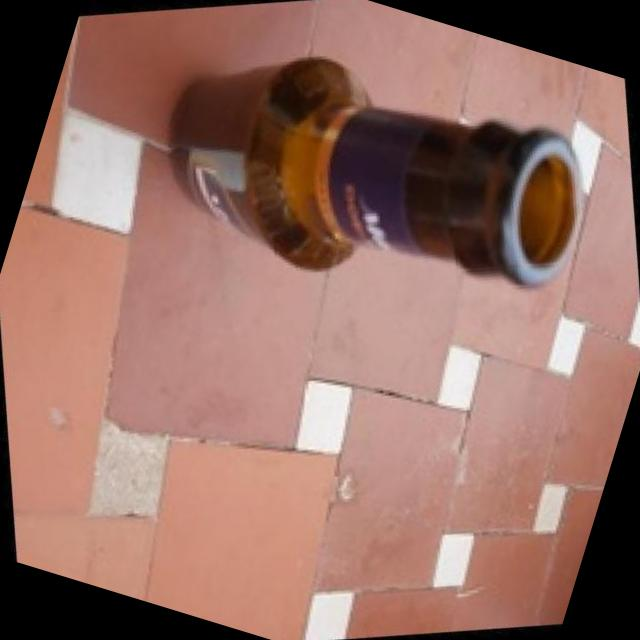BotolKaca: (156, 24, 606, 346)
